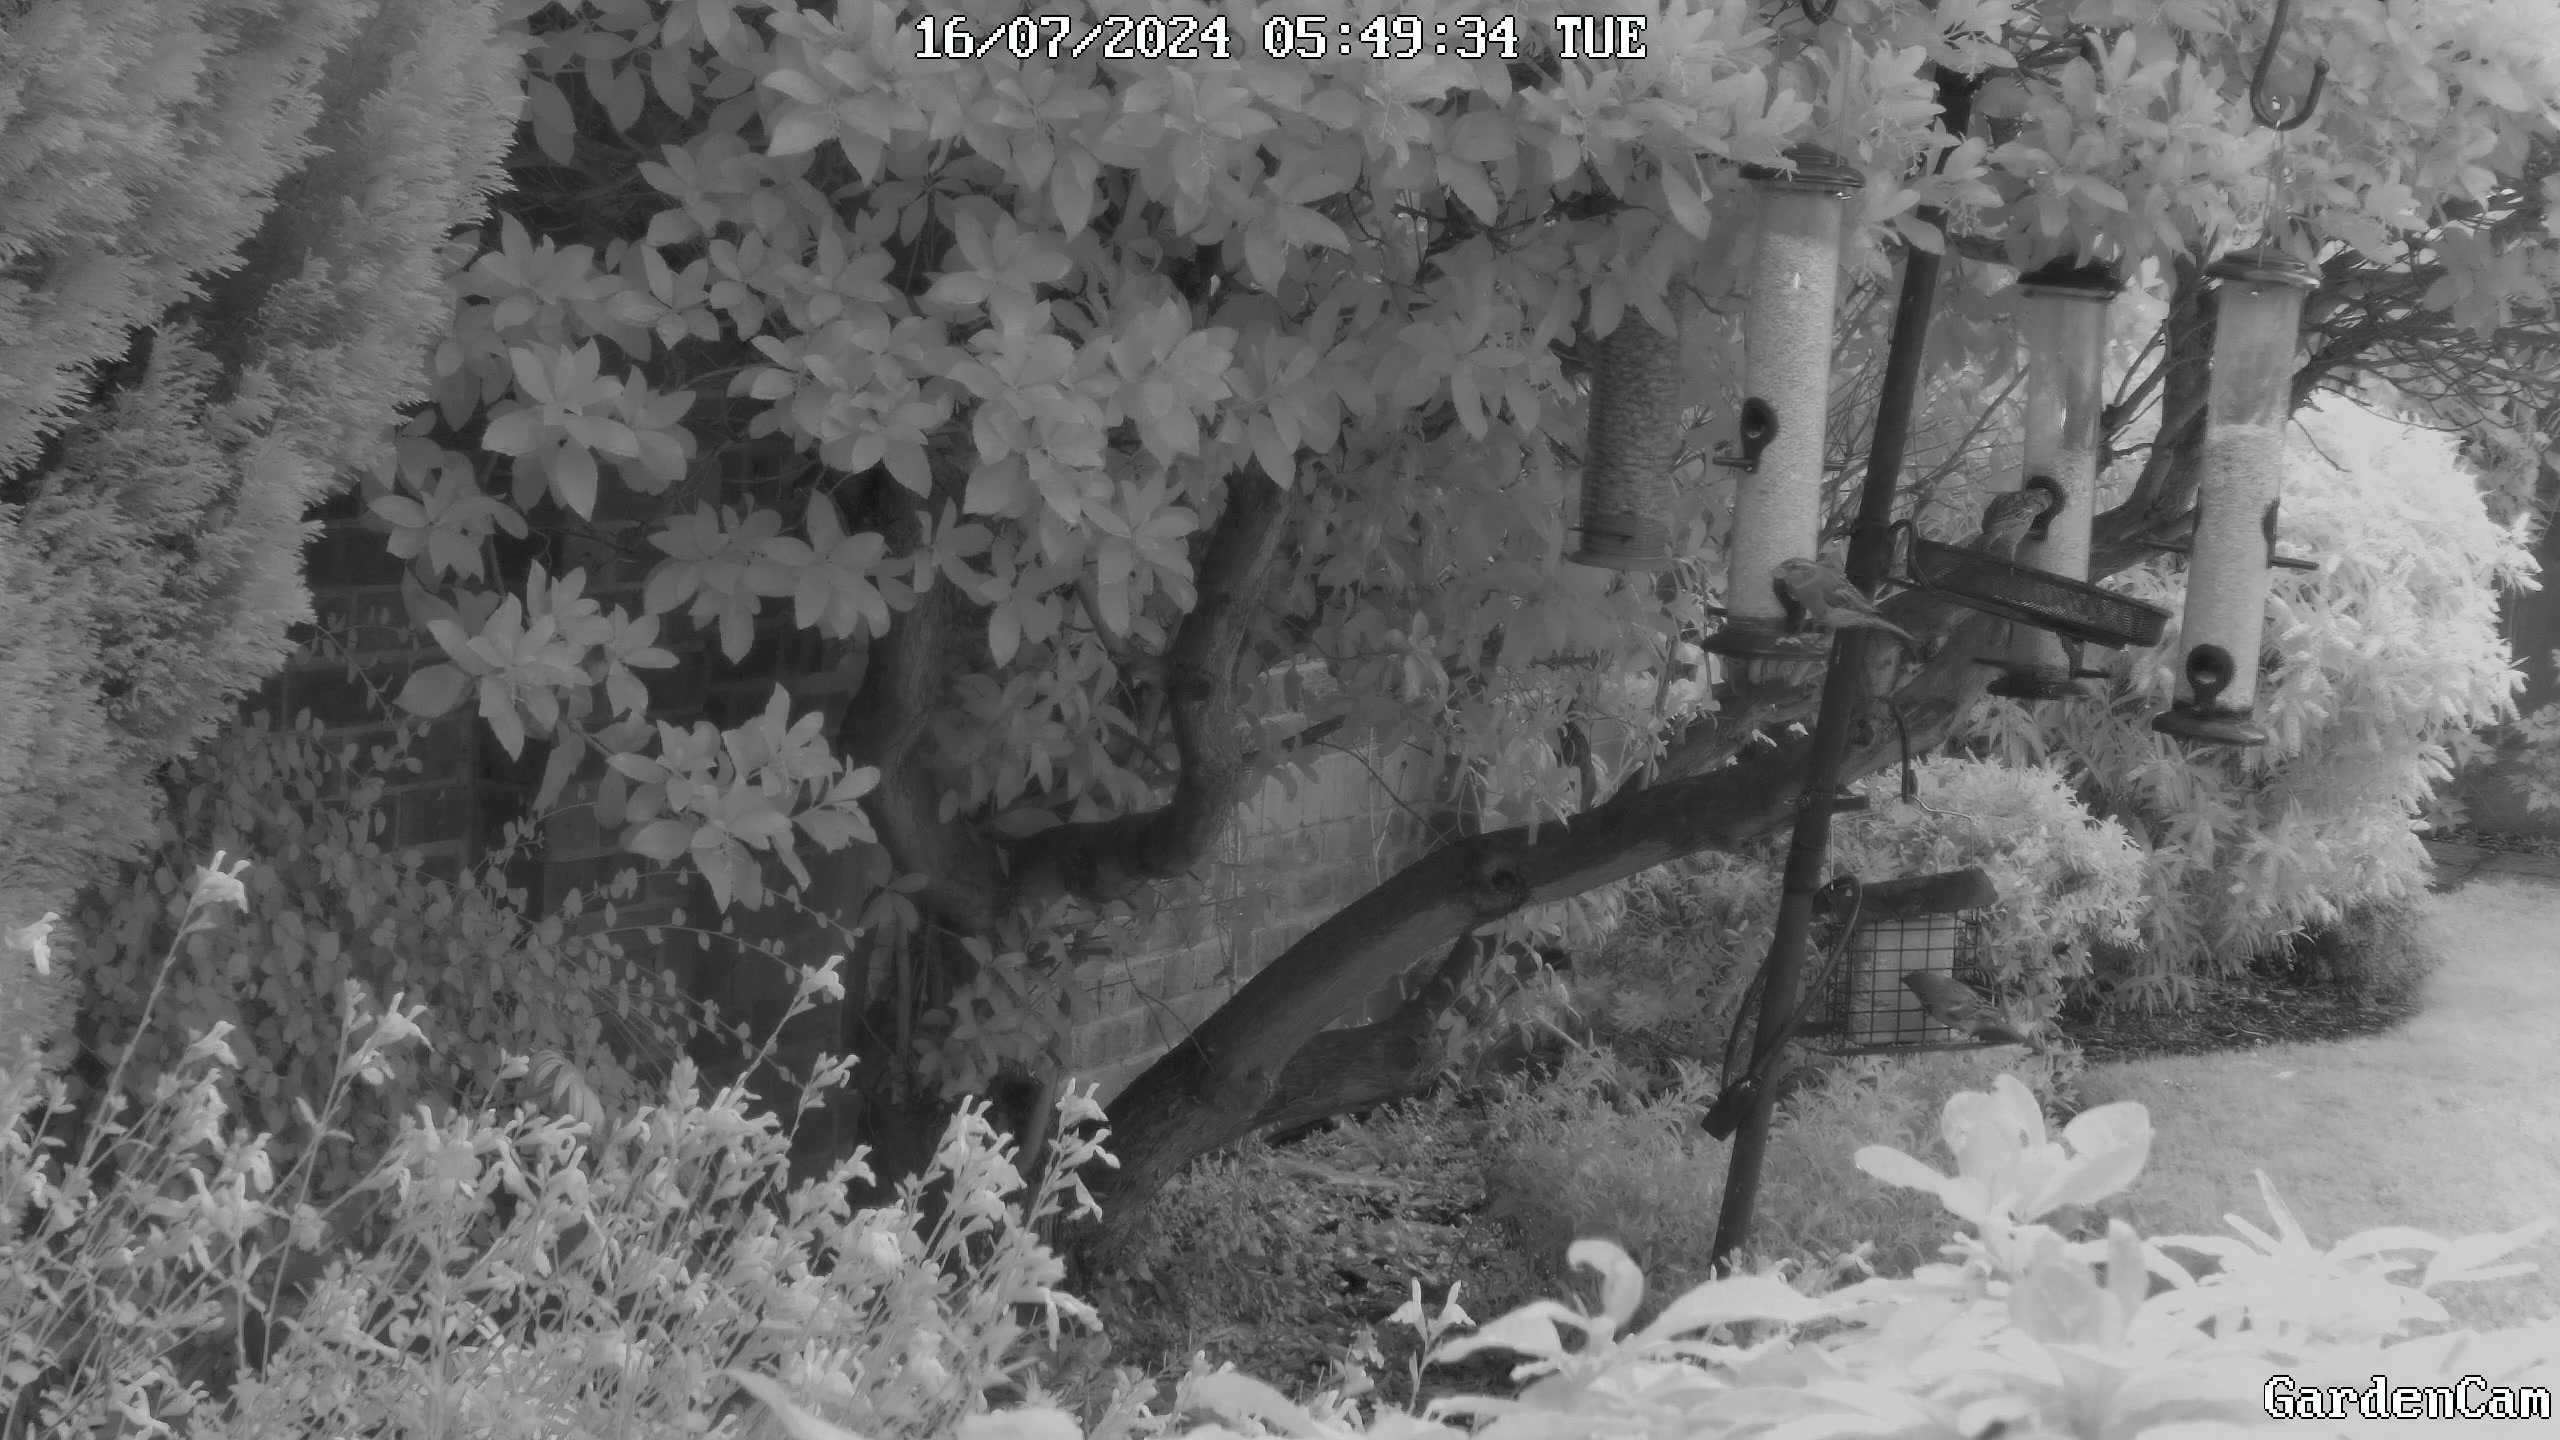House_Sparrow: (1938, 452, 2098, 593), (1876, 923, 2033, 1058)
